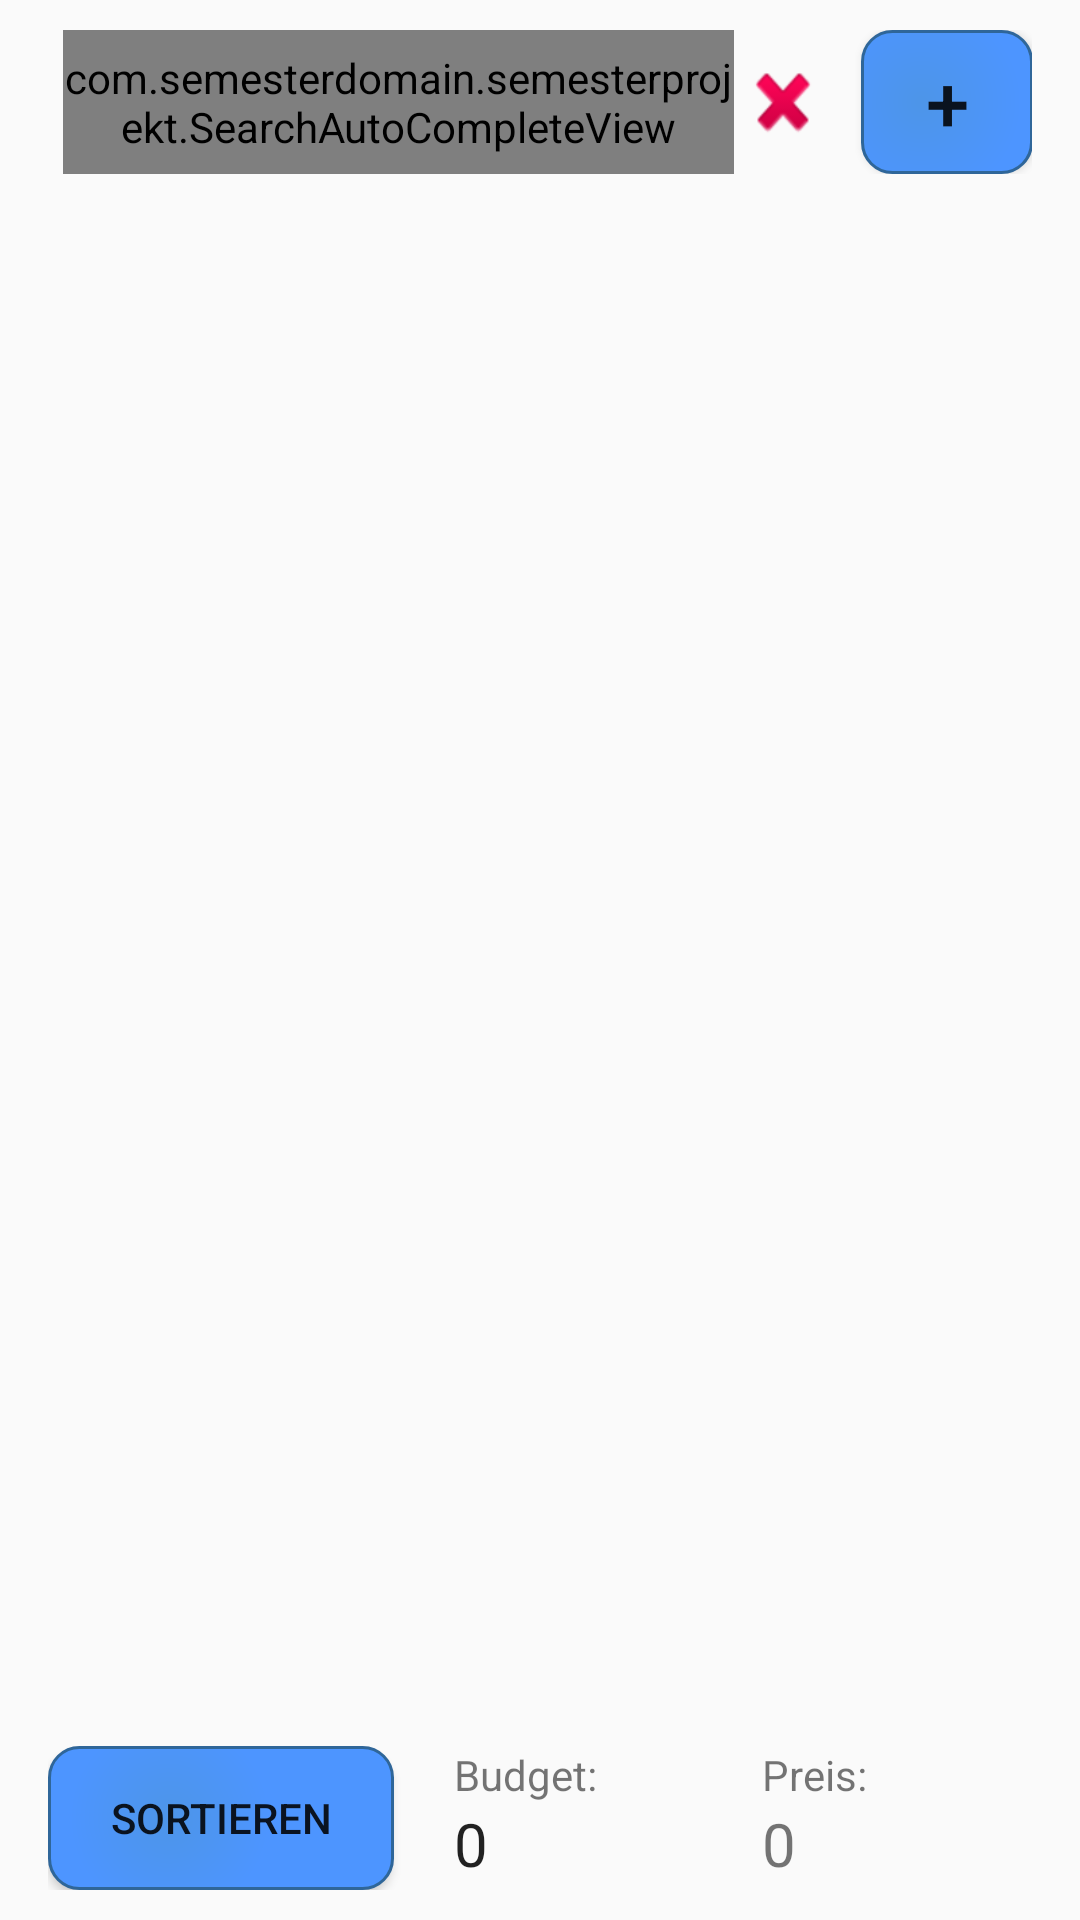

Icon bounding boxes for this 1080px x 1920px phone screenshot, format region(x1, y1, x2, y2):
delete: region(756, 73, 810, 132)
